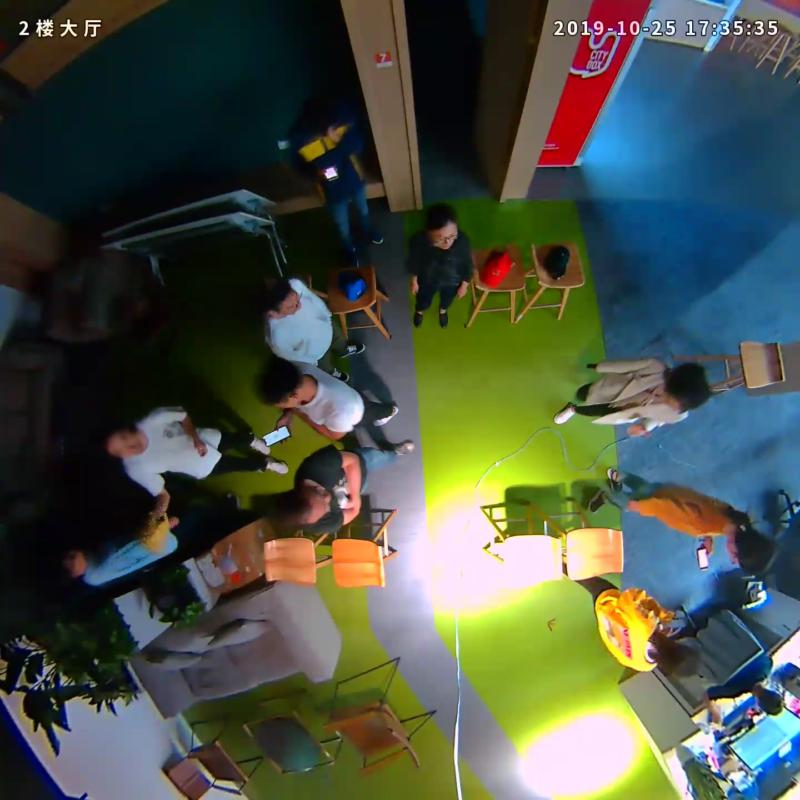head: (253, 359, 307, 409), (662, 363, 711, 413), (276, 485, 331, 529), (726, 527, 777, 573), (254, 272, 302, 319), (305, 87, 350, 133), (97, 420, 146, 460), (655, 637, 699, 678), (47, 543, 91, 580), (424, 204, 457, 249)
